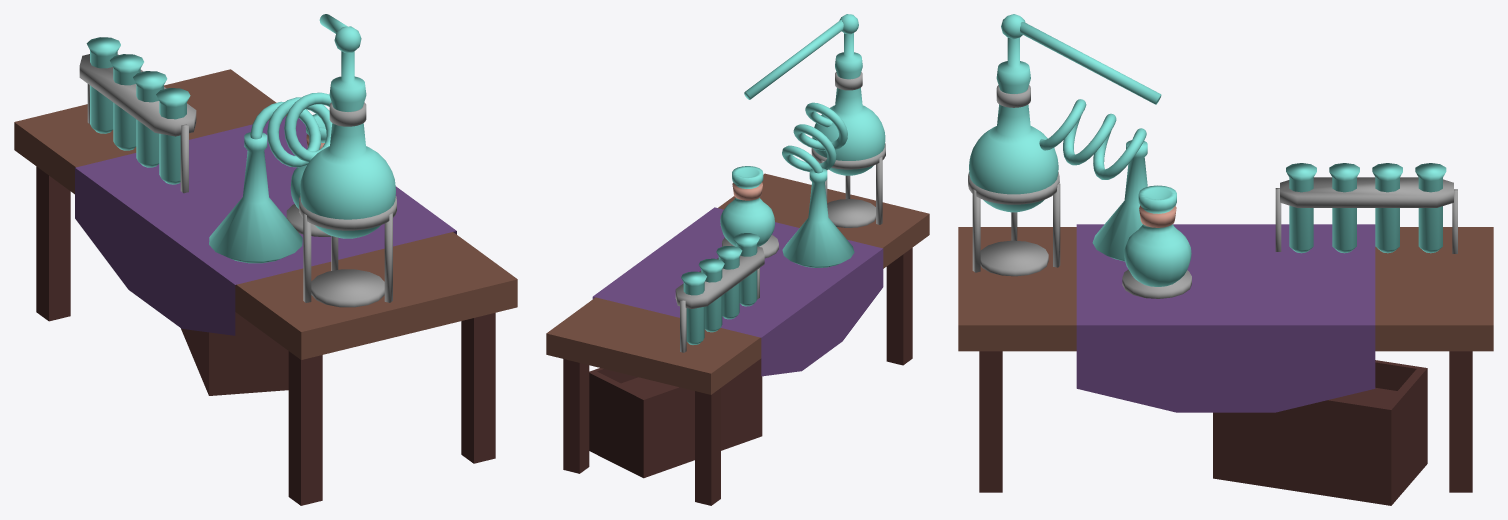
The model's file is workstation_brewery_v1.1.fbx.
3 renders of one model, left to right at view 1: azimuth 30°, elevation 25°; view 2: azimuth 150°, elevation 25°; view 3: azimuth 270°, elevation 25°, orthographic. The views are drawn at different scales.
Visible parts, largest first — view 1: Cube.002, Sphere, Cylinder.007, Cube.023, Sphere.002; view 2: Cube.002, Sphere, Cube.023, Cylinder.007, Sphere.002; view 3: Cube.002, Sphere, Cube.023, Cylinder.007, Sphere.002.
Boxes of the visible parts, x1,y1,x2,y2 form: Cube.002: (14,69,517,505); Sphere: (209,14,396,307); Cylinder.007: (79,37,196,193); Cube.023: (181,312,288,395); Sphere.002: (290,114,326,208); Cube.002: (546,173,929,505); Sphere: (722,14,885,267); Cube.023: (589,358,762,478); Cylinder.007: (675,233,764,352); Sphere.002: (720,166,774,246); Cube.002: (958,224,1493,492); Sphere: (968,14,1191,298); Cube.023: (1213,360,1427,505); Cylinder.007: (1275,163,1457,253); Sphere.002: (1124,185,1191,286).
Size of the model in its own units: 106 by 210 by 238.
